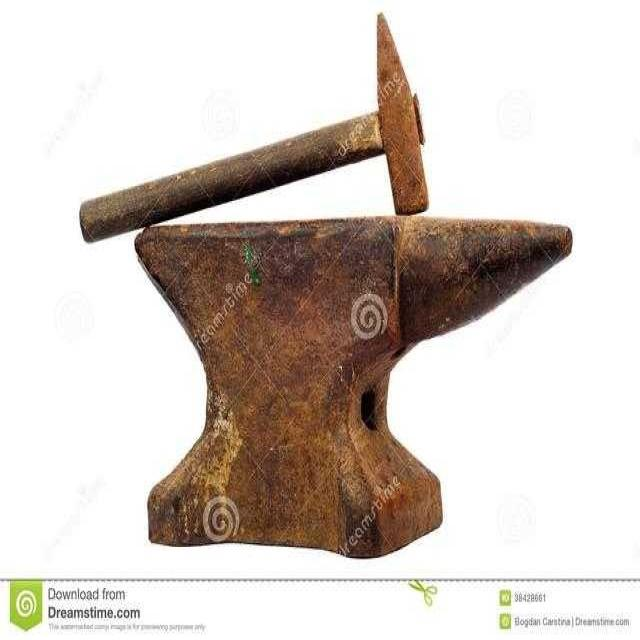hammer: (81, 10, 435, 243)
